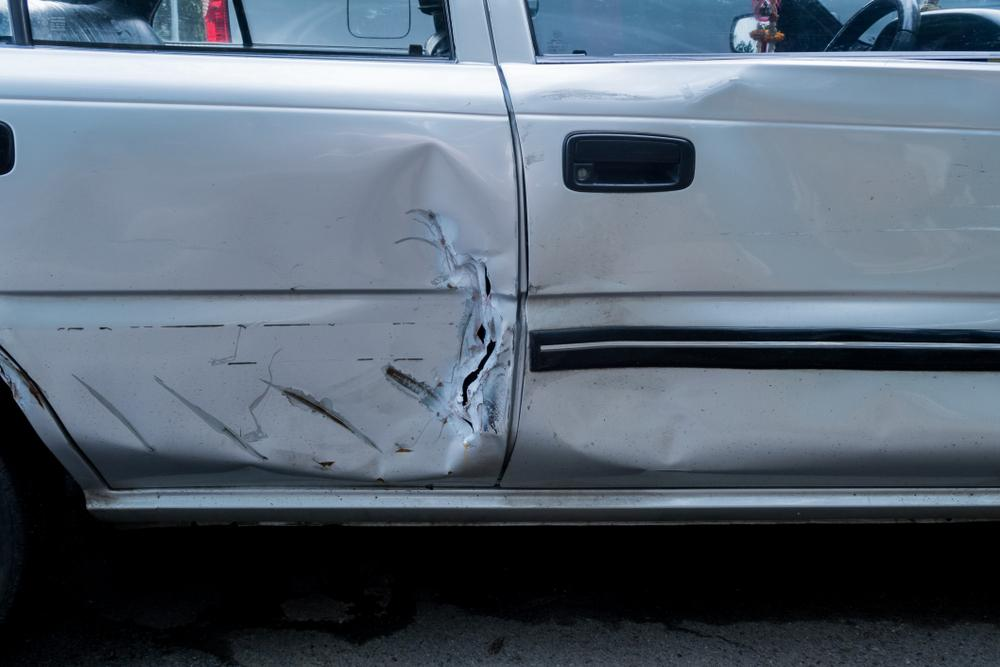crack: (460, 323, 497, 410), (483, 262, 492, 298)
dent: (530, 197, 768, 466), (336, 144, 520, 479), (696, 90, 1000, 271)
scratch: (153, 345, 383, 465), (71, 374, 155, 452), (381, 363, 436, 409)
